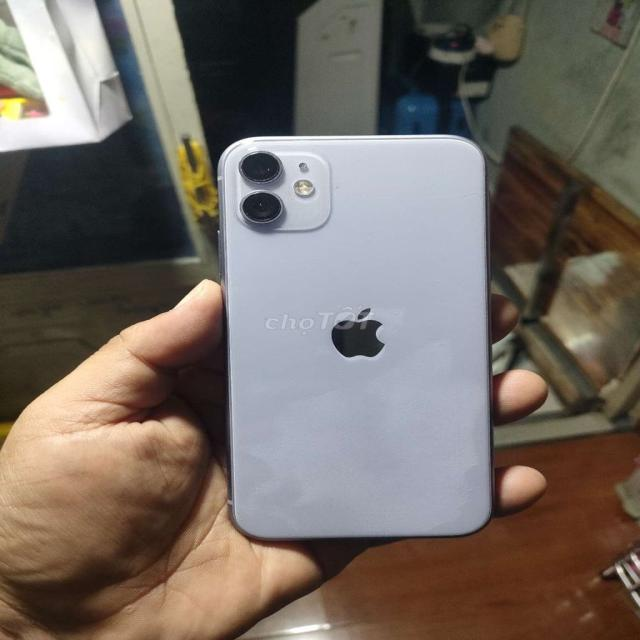gen_11: (205, 129, 512, 535)
